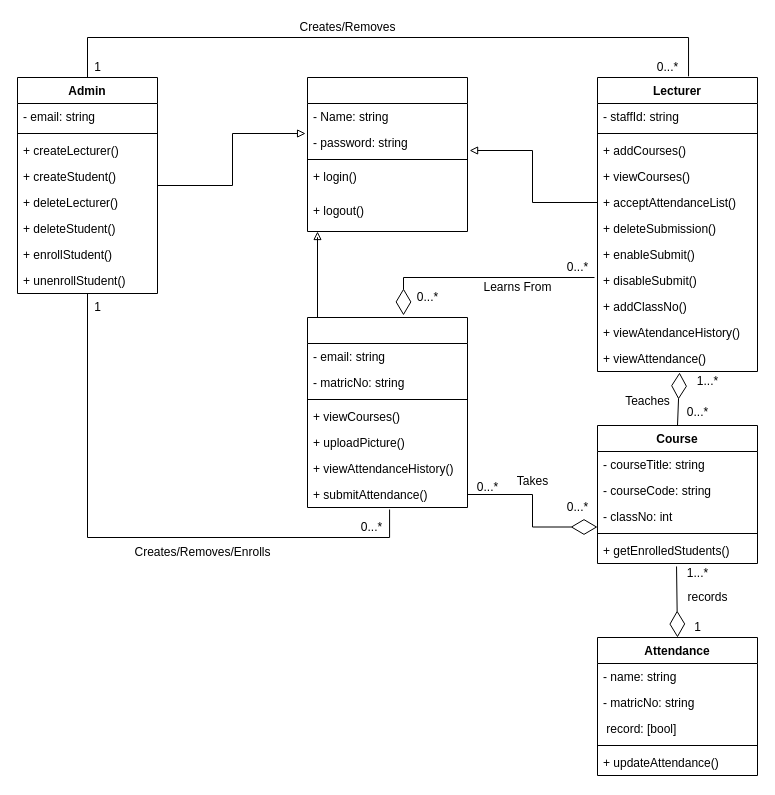
Some shapes in this 775 by 795 pixel diagram are drawn without their labels. Each missing label, with the box of its shape:
Student: (306, 316, 468, 508)
User: (306, 76, 468, 232)
